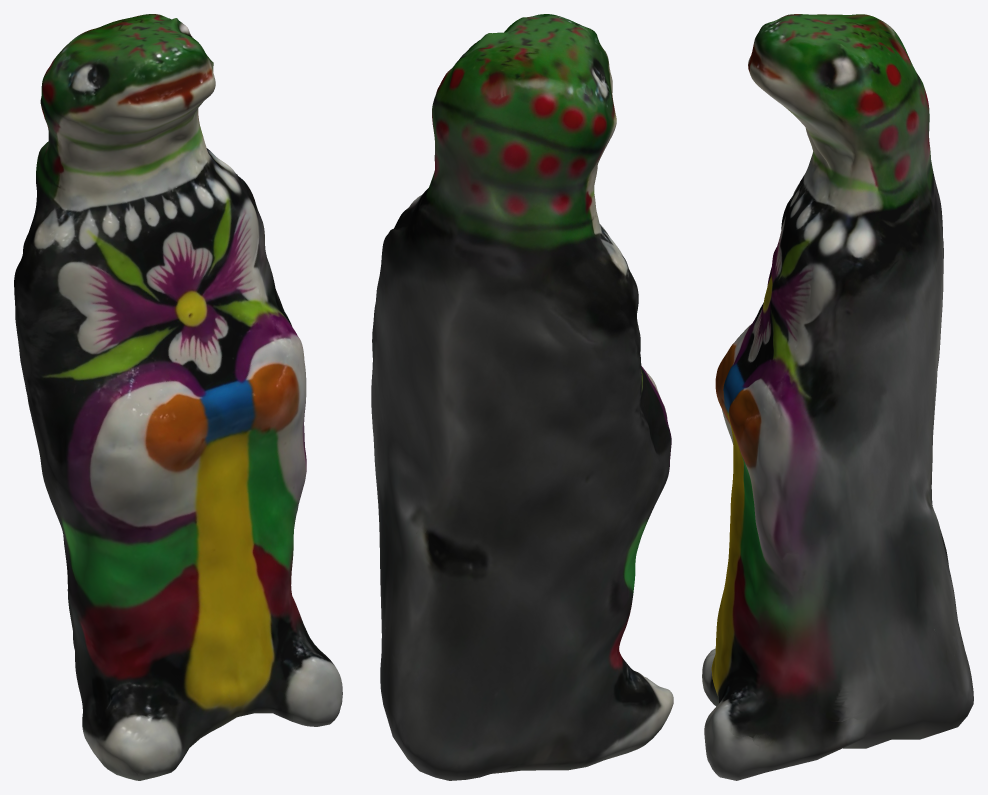
The picture shows the model from 3 angles, left to right: view 1: azimuth 30°, elevation 25°; view 2: azimuth 150°, elevation 25°; view 3: azimuth 270°, elevation 25°; orthographic projection. The views are drawn at different scales.
Size of the model in its own units: 0.3411 by 0.8738 by 0.3023.
Materials: 1 (1 with a texture image).
